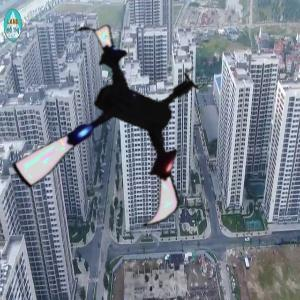drone: (3, 23, 222, 242)
